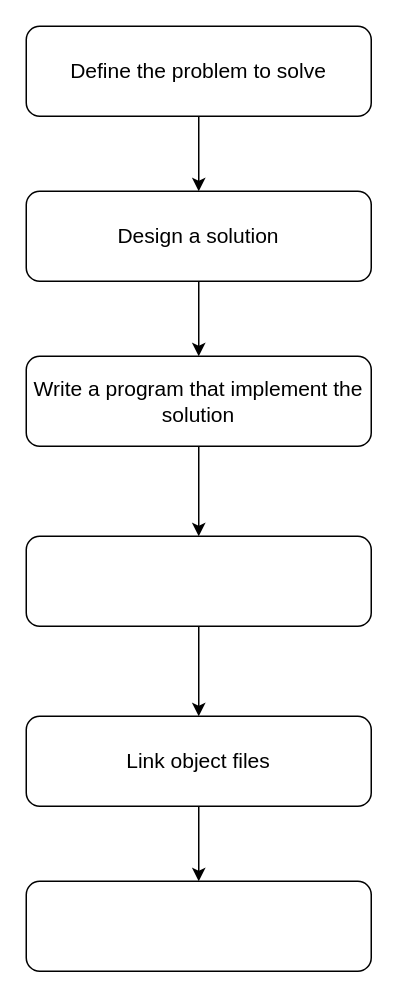
Image size: 398x998. Some labels were removed from this diagram. The box of each missing label's shape, as (x1, y1, x2, y2) in pixels:
Compile the program: (25, 535, 371, 626)
Test program: (25, 880, 371, 971)
